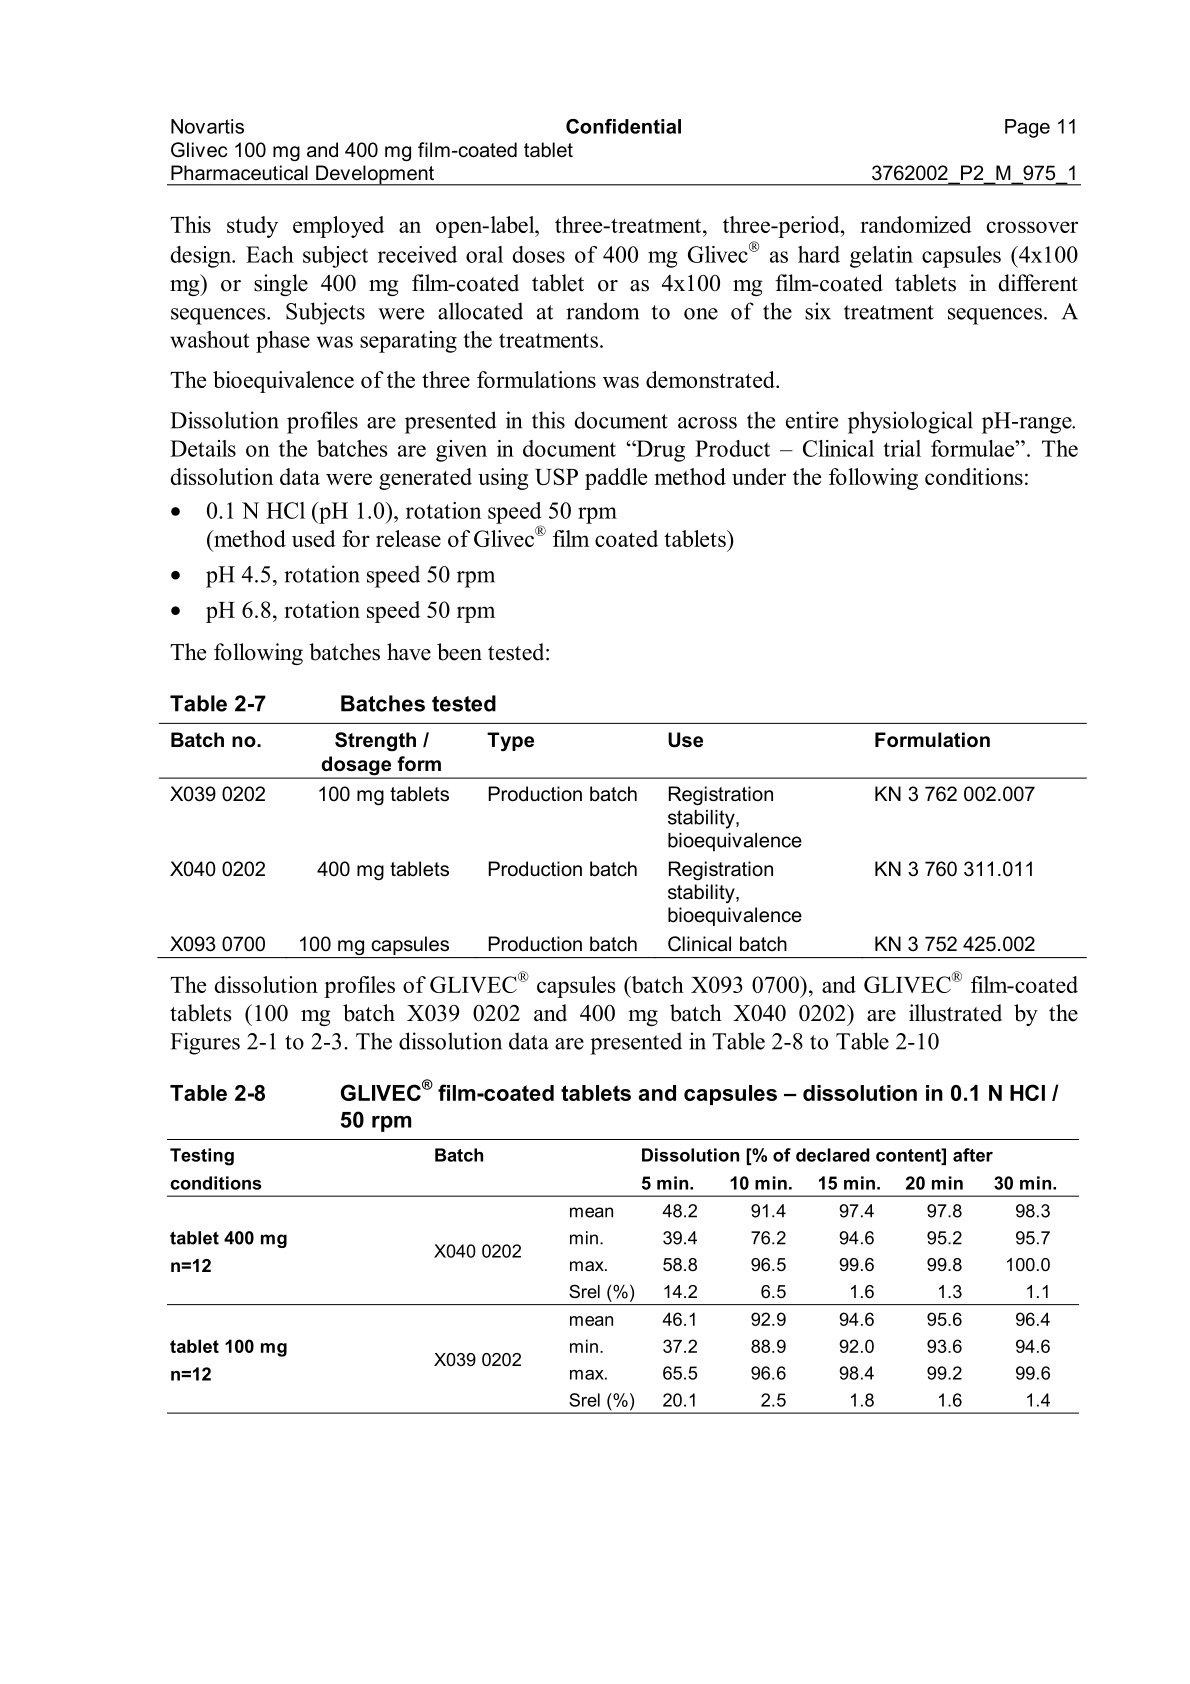partial_lined: (157, 722, 1086, 959)
partial_lined_merged_cells: (165, 1138, 1081, 1415)
